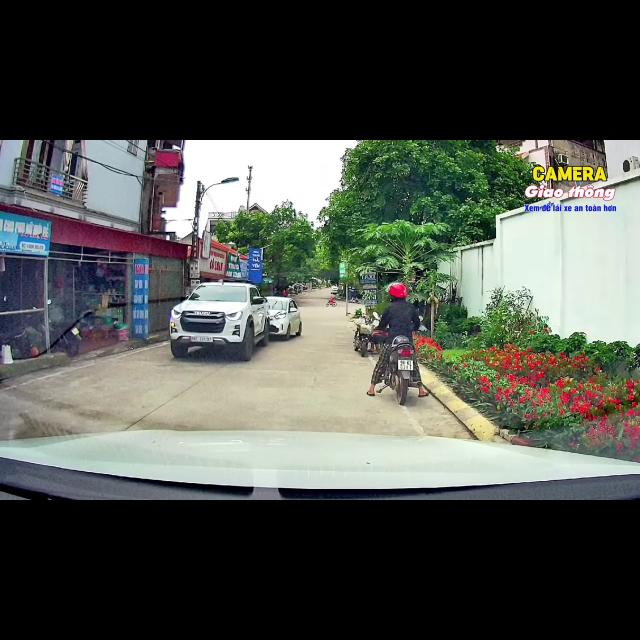car: (170, 282, 269, 361), (267, 296, 302, 339), (331, 285, 339, 291)
motorcycle: (377, 336, 420, 405), (377, 336, 419, 405), (50, 311, 93, 356), (354, 314, 378, 356), (326, 301, 336, 307)
